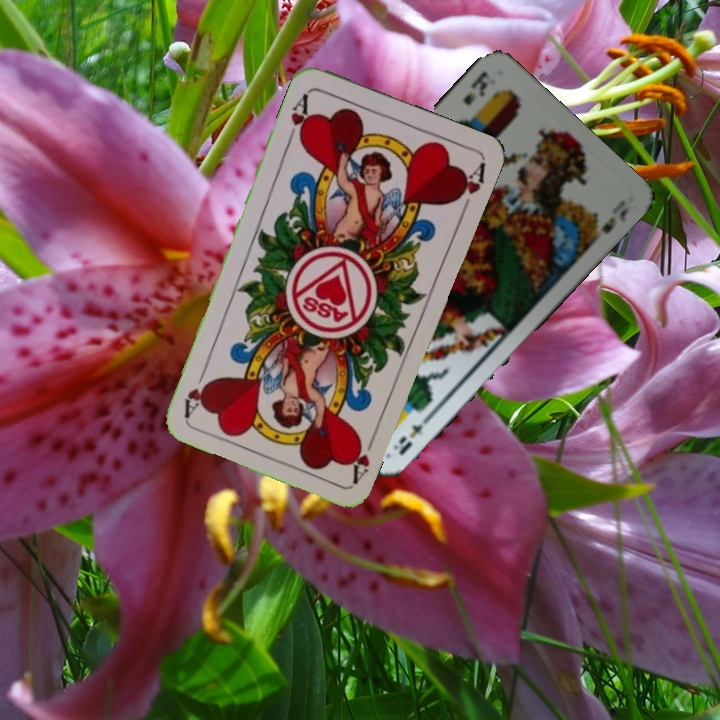EK: (389, 410, 435, 458), (459, 67, 491, 108)
HA: (344, 428, 380, 485), (284, 89, 314, 146)
